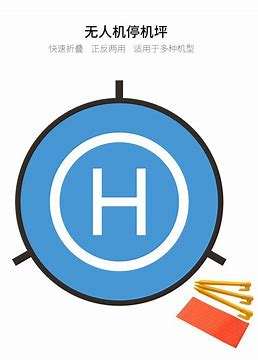H: (92, 167, 146, 235)
